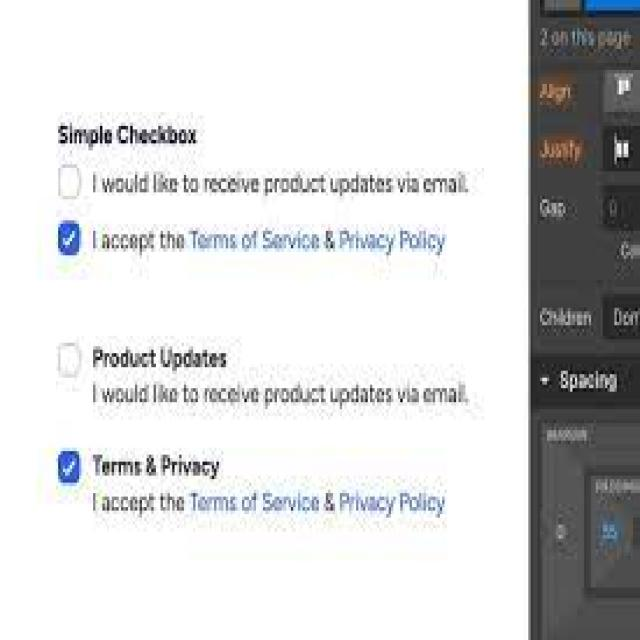checkbox: (58, 446, 453, 527), (58, 343, 472, 416), (58, 217, 450, 269), (59, 163, 474, 210)
